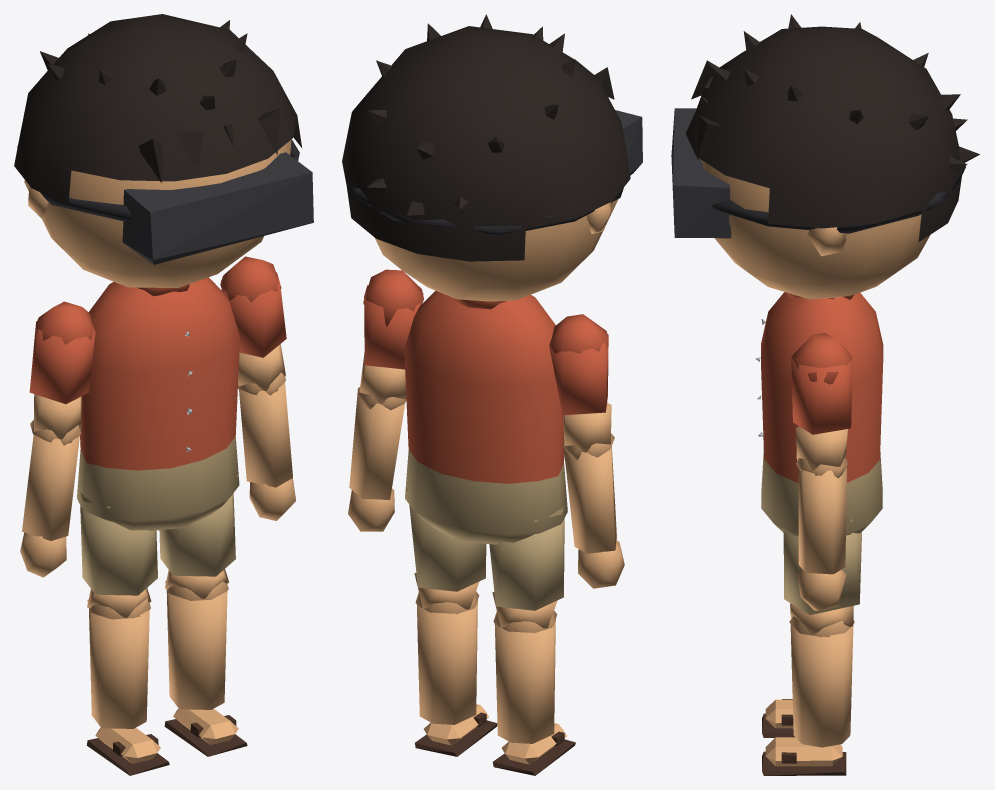
Rendered from era5_vr_boy.glb.
The picture shows the model from 3 angles, left to right: view 1: azimuth 30°, elevation 25°; view 2: azimuth 150°, elevation 25°; view 3: azimuth 270°, elevation 25°; orthographic projection.
Visible parts, largest first — view 1: head, body, shin_R, shin_L, arm_R, leg_R, arm_L, forearm_R, forearm_L, leg_L; view 2: head, body, shin_R, shin_L, arm_R, leg_R, arm_L, forearm_R, forearm_L, leg_L; view 3: head, body, shin_L, arm_L, forearm_L, leg_L, shin_R.
Part boxes in pixels (box(x1,y1,x2,y2)): head: box(14, 14, 313, 287); body: box(77, 277, 239, 531); shin_R: box(86, 598, 169, 775); shin_L: box(164, 581, 247, 756); arm_R: box(29, 301, 95, 445); leg_R: box(80, 492, 157, 619); arm_L: box(220, 256, 286, 395); forearm_R: box(20, 425, 79, 577); forearm_L: box(238, 372, 295, 520); leg_L: box(159, 474, 238, 600); head: box(342, 14, 642, 301); body: box(404, 290, 567, 544); shin_R: box(493, 612, 575, 775); shin_L: box(415, 593, 497, 756); arm_R: box(549, 314, 614, 460); leg_R: box(489, 505, 564, 633); arm_L: box(358, 269, 423, 410); forearm_R: box(563, 442, 624, 588); forearm_L: box(348, 387, 405, 531); leg_L: box(406, 488, 486, 614); head: box(671, 14, 979, 299); body: box(755, 292, 883, 536); shin_L: box(762, 617, 853, 775); arm_L: box(791, 333, 852, 478); forearm_L: box(796, 458, 847, 611); leg_L: box(783, 519, 861, 637); shin_R: box(762, 699, 794, 737).
Bounding box in the file's own units: 0.518 × 1.31 × 0.5178.
